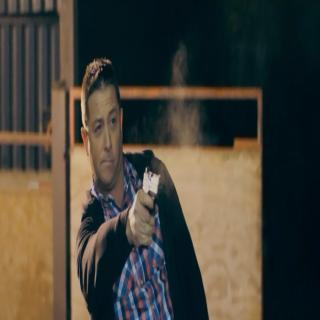gun: (133, 161, 165, 250)
